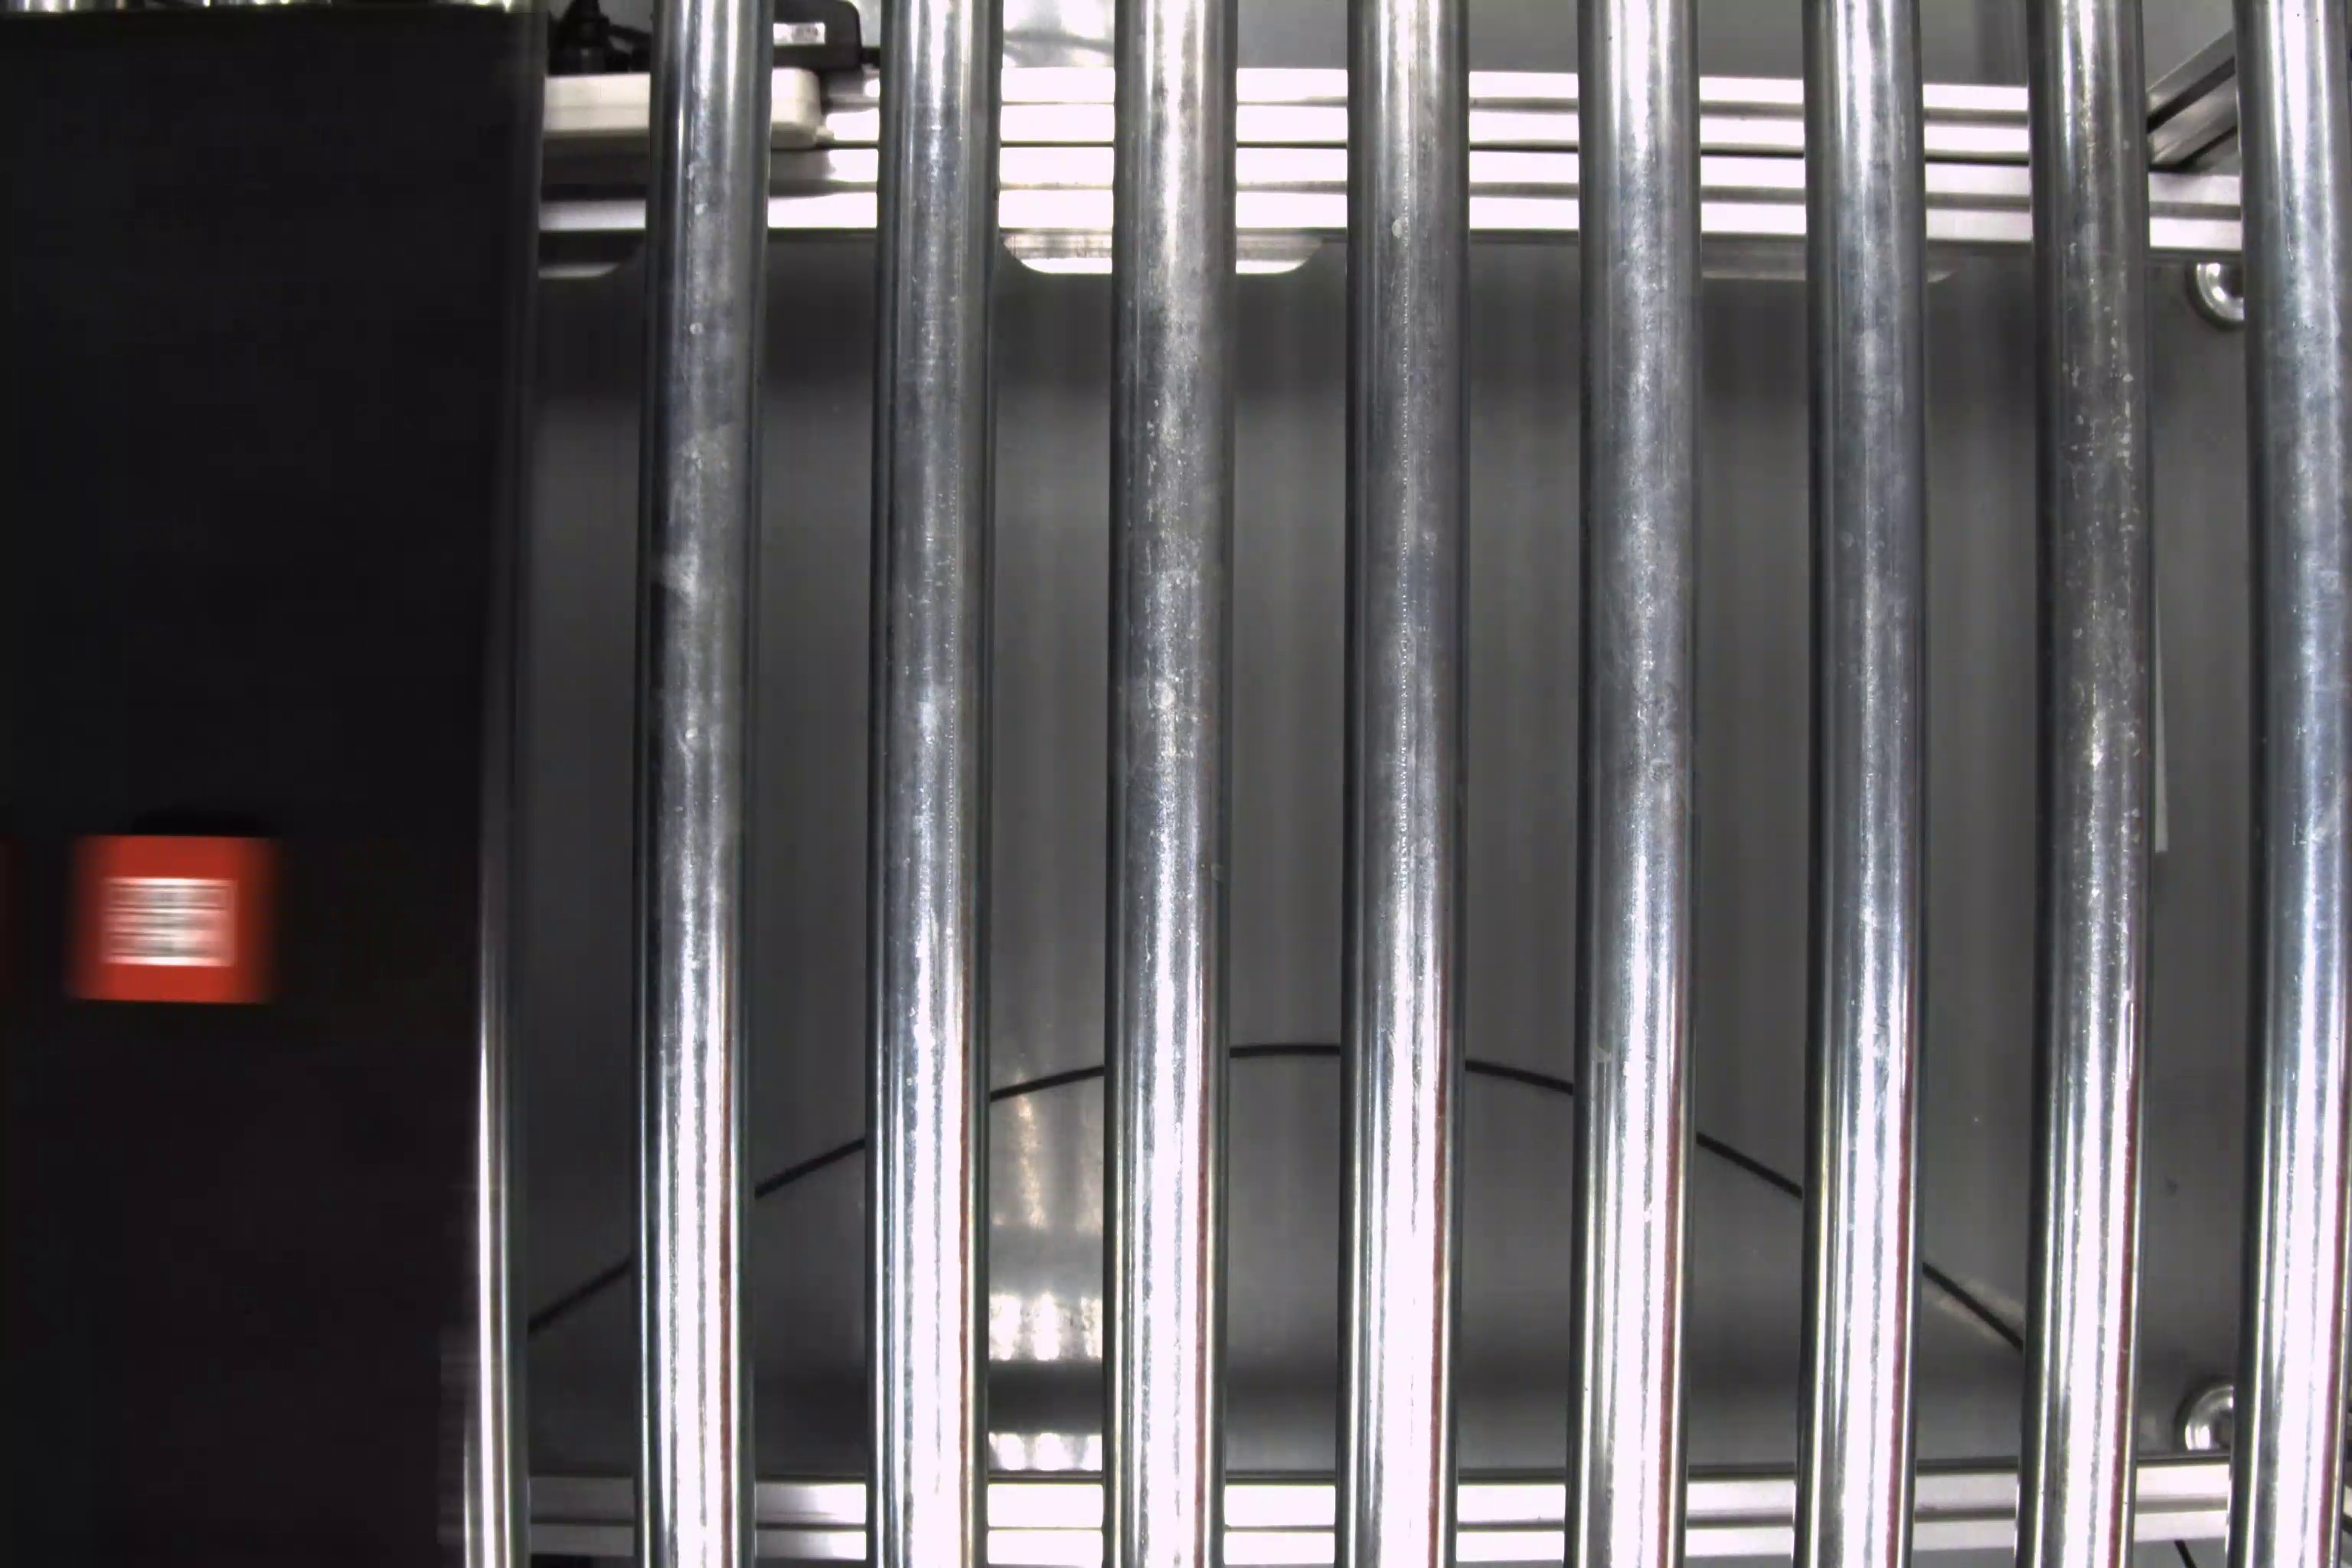wood: (75, 836, 285, 1008)
